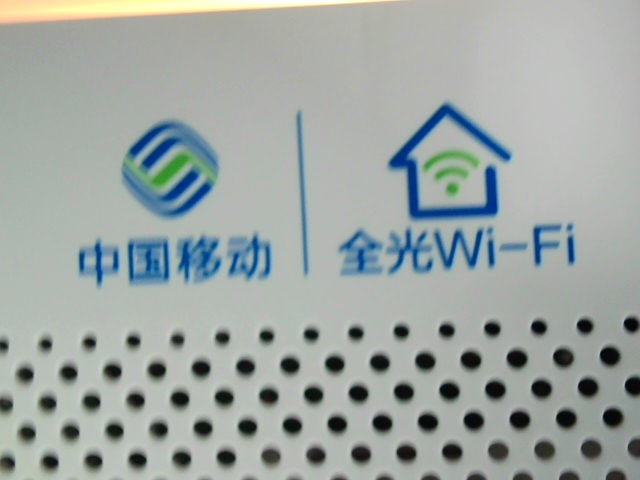BJ_QuanGuangMobile: (54, 91, 587, 295)
